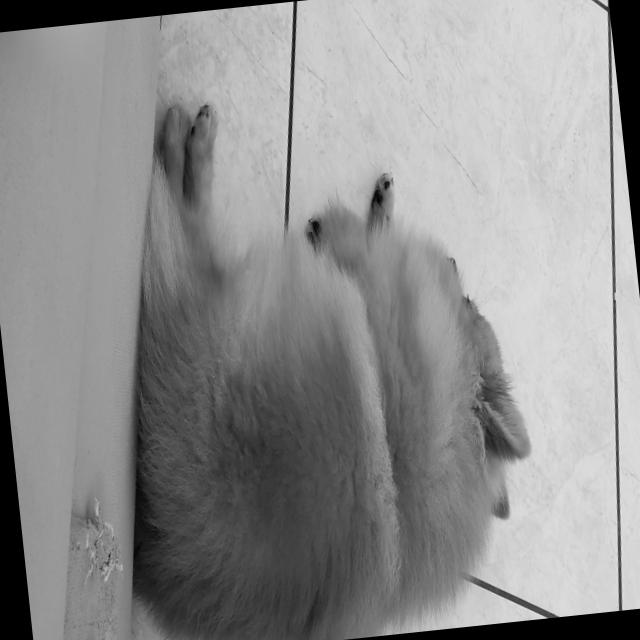laying down: (72, 47, 548, 640)
